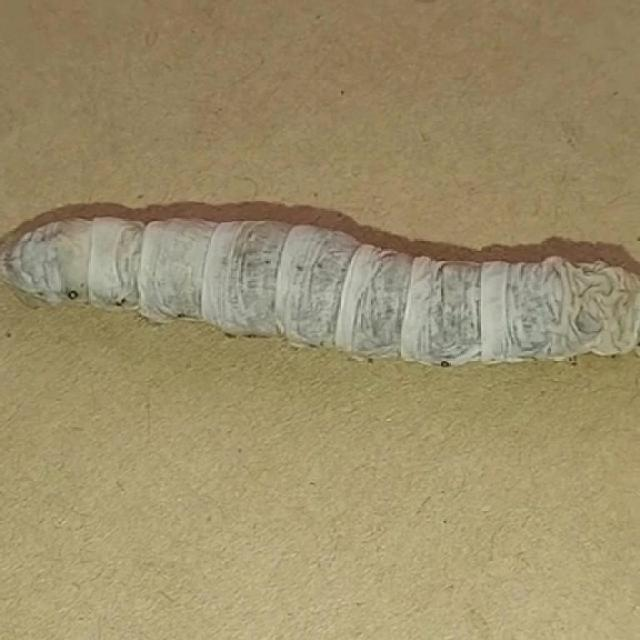Grasserie: (0, 182, 640, 419)
